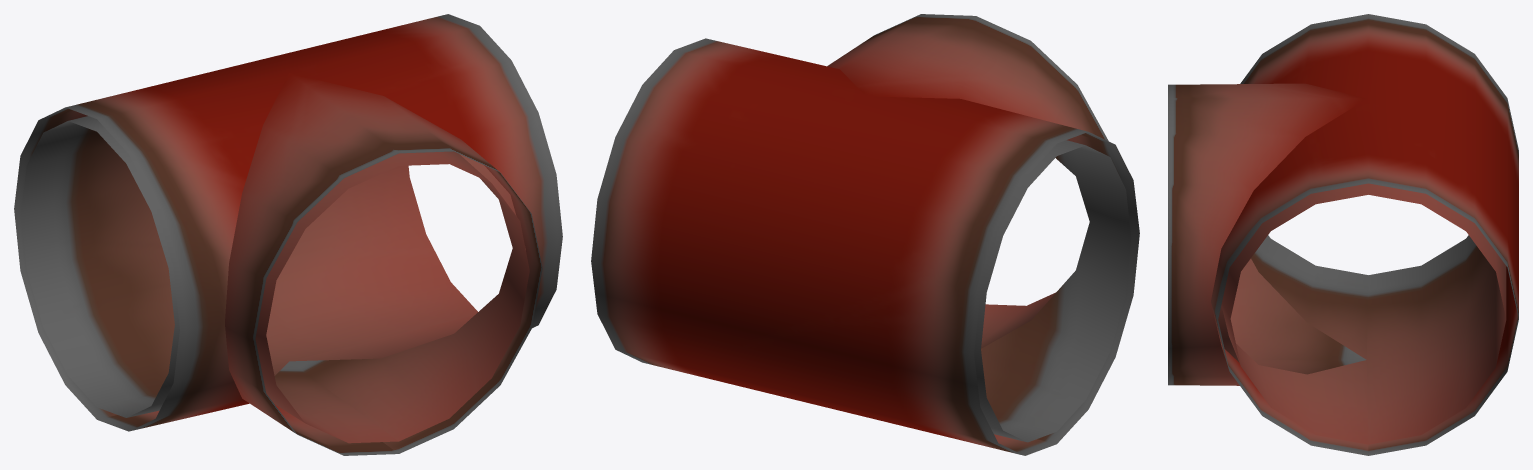
File: pipe01_junction_3way_hollow.fbx
The picture shows the model from 3 angles, left to right: view 1: azimuth 30°, elevation 25°; view 2: azimuth 150°, elevation 25°; view 3: azimuth 270°, elevation 25°; orthographic projection. The views are drawn at different scales.
Parts seen in each view (by area): view 1: pipe01_junction_3way_hollow; view 2: pipe01_junction_3way_hollow; view 3: pipe01_junction_3way_hollow.
Part boxes in pixels (x1,y1,x2,y2): pipe01_junction_3way_hollow: [14, 14, 562, 455]; pipe01_junction_3way_hollow: [591, 14, 1139, 455]; pipe01_junction_3way_hollow: [1168, 14, 1518, 455].
Bounding box in the file's own units: 16 × 12 × 14.
